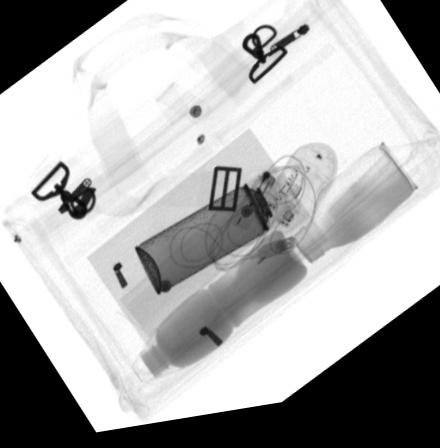Lighter: (227, 175, 276, 239)
Sprayer: (132, 174, 302, 300)
